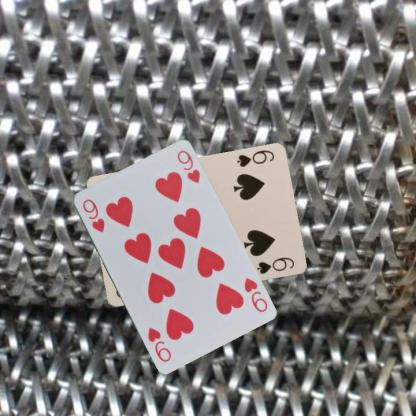6s: (234, 148, 276, 169)
9h: (241, 274, 269, 314), (79, 196, 106, 234)
